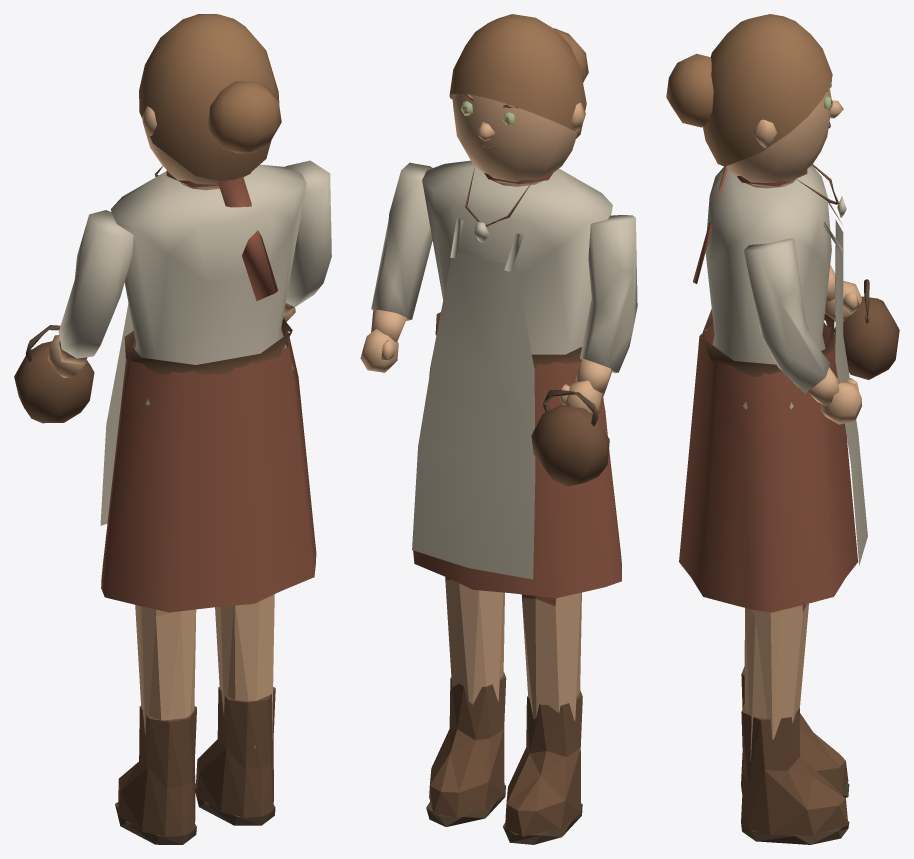
The model's file is SM_NPC_MERC_MEDIA.glb.
3 renders of one model, left to right at view 1: azimuth 30°, elevation 25°; view 2: azimuth 150°, elevation 25°; view 3: azimuth 270°, elevation 25°, orthographic. The views are drawn at different scales.
Parts seen in each view (by area): view 1: SM_NPC_MERC_BODY, SM_NPC_MERC_HEAD, SM_NPC_MERC_ARM_L, SM_NPC_MERC_ARM_R; view 2: SM_NPC_MERC_BODY, SM_NPC_MERC_HEAD, SM_NPC_MERC_ARM_L, SM_NPC_MERC_ARM_R; view 3: SM_NPC_MERC_BODY, SM_NPC_MERC_HEAD, SM_NPC_MERC_ARM_R, SM_NPC_MERC_ARM_L.
Part boxes in pixels (x1,y1,x2,y2): SM_NPC_MERC_BODY: [100, 164, 316, 844]; SM_NPC_MERC_HEAD: [139, 14, 281, 188]; SM_NPC_MERC_ARM_L: [14, 210, 133, 423]; SM_NPC_MERC_ARM_R: [283, 160, 331, 321]; SM_NPC_MERC_BODY: [412, 160, 621, 844]; SM_NPC_MERC_HEAD: [449, 14, 588, 185]; SM_NPC_MERC_ARM_L: [531, 215, 637, 486]; SM_NPC_MERC_ARM_R: [360, 162, 432, 372]; SM_NPC_MERC_BODY: [679, 164, 867, 844]; SM_NPC_MERC_HEAD: [666, 14, 843, 186]; SM_NPC_MERC_ARM_R: [744, 238, 861, 424]; SM_NPC_MERC_ARM_L: [825, 265, 899, 379].
Bounding box in the file's own units: 0.6334 × 1.81 × 0.4833.
